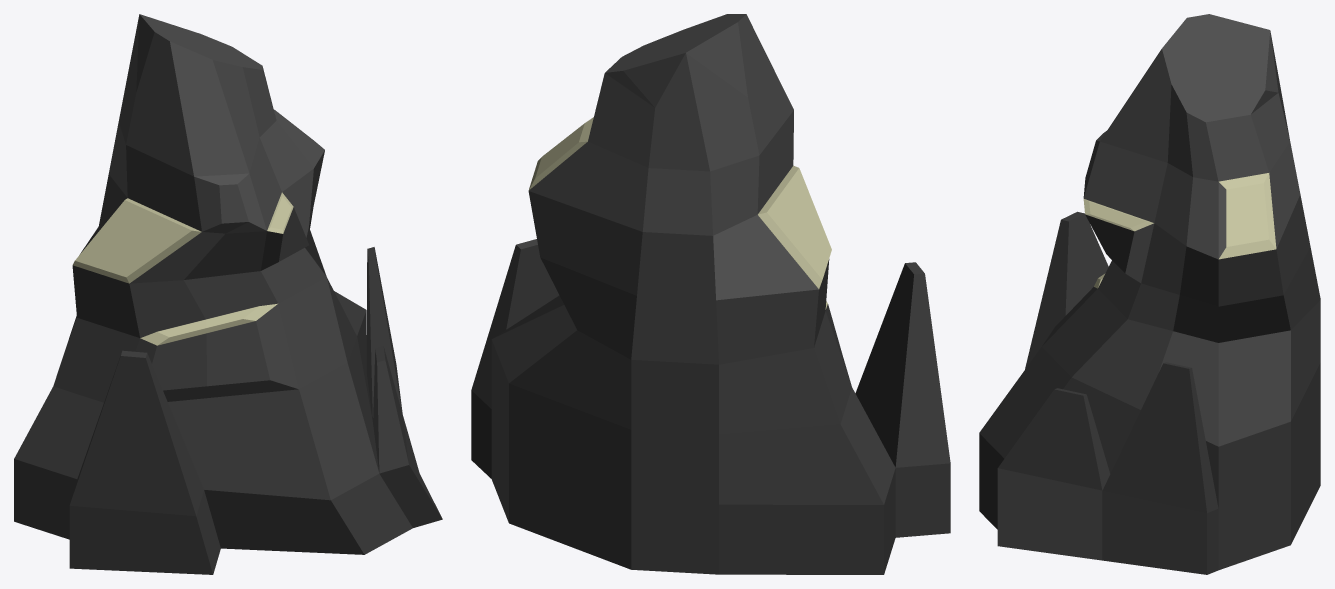
The model's file is Coast-3.fbx.
The picture shows the model from 3 angles, left to right: view 1: azimuth 30°, elevation 25°; view 2: azimuth 150°, elevation 25°; view 3: azimuth 270°, elevation 25°; orthographic projection. The views are drawn at different scales.
Visible parts, largest first — view 1: Cylinder.106; view 2: Cylinder.106; view 3: Cylinder.106.
Boxes of the visible parts, bbox=[...] form: Cylinder.106: bbox=[14, 14, 442, 574]; Cylinder.106: bbox=[471, 14, 950, 574]; Cylinder.106: bbox=[979, 14, 1320, 574].
Size of the model in its own units: 982 by 1150 by 780.
